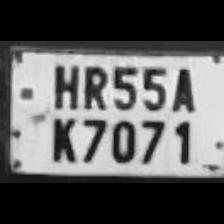0: (107, 114, 135, 164)
1: (167, 113, 197, 165)
5: (107, 61, 139, 108), (138, 64, 168, 108)
7: (136, 114, 166, 164), (77, 111, 105, 163)
A: (166, 64, 198, 114)
H: (46, 58, 82, 110)
K: (46, 111, 76, 163)
R: (78, 62, 106, 110)
